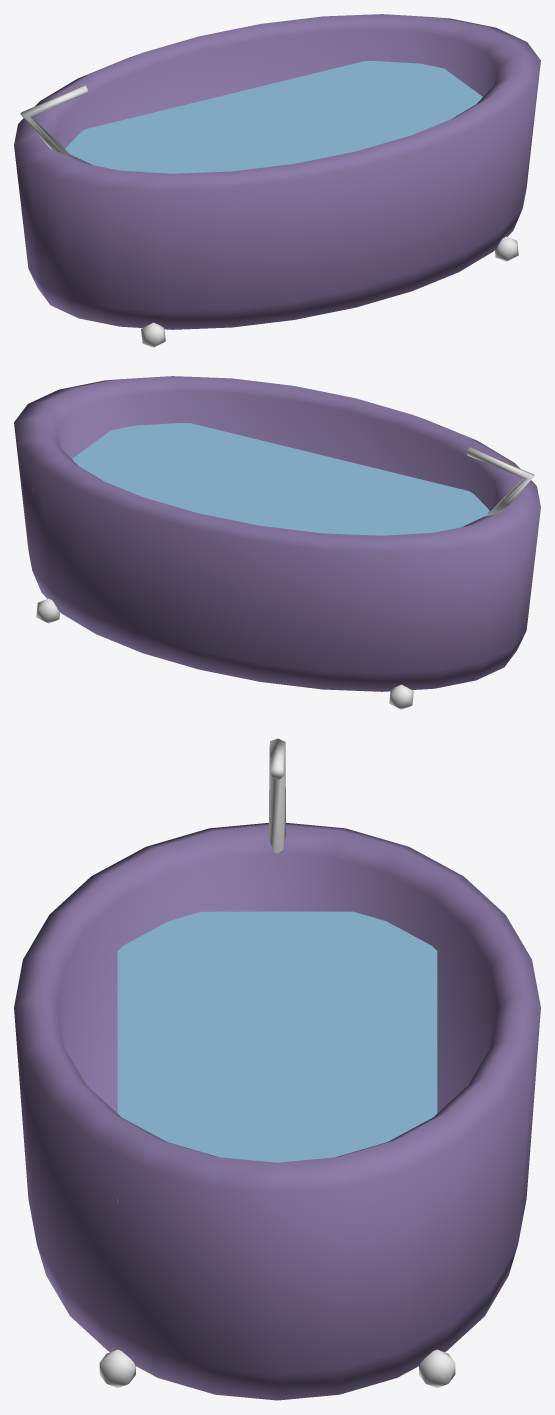
The model's file is ebonwood_bathtub_v0.glb.
3 views of the same model, one above another, from view 1: azimuth 30°, elevation 25°; view 2: azimuth 150°, elevation 25°; view 3: azimuth 270°, elevation 25° (orthographic). The views are drawn at different scales.
Parts seen in each view (by area): view 1: ebonwood_bathtub_v0; view 2: ebonwood_bathtub_v0; view 3: ebonwood_bathtub_v0.
Part boxes in pixels (<box>): ebonwood_bathtub_v0: <box>14,14,540,347</box>; ebonwood_bathtub_v0: <box>14,376,540,709</box>; ebonwood_bathtub_v0: <box>14,738,540,1400</box>.
Bounding box in the file's own units: 2.51 × 1.08 × 1.49.
